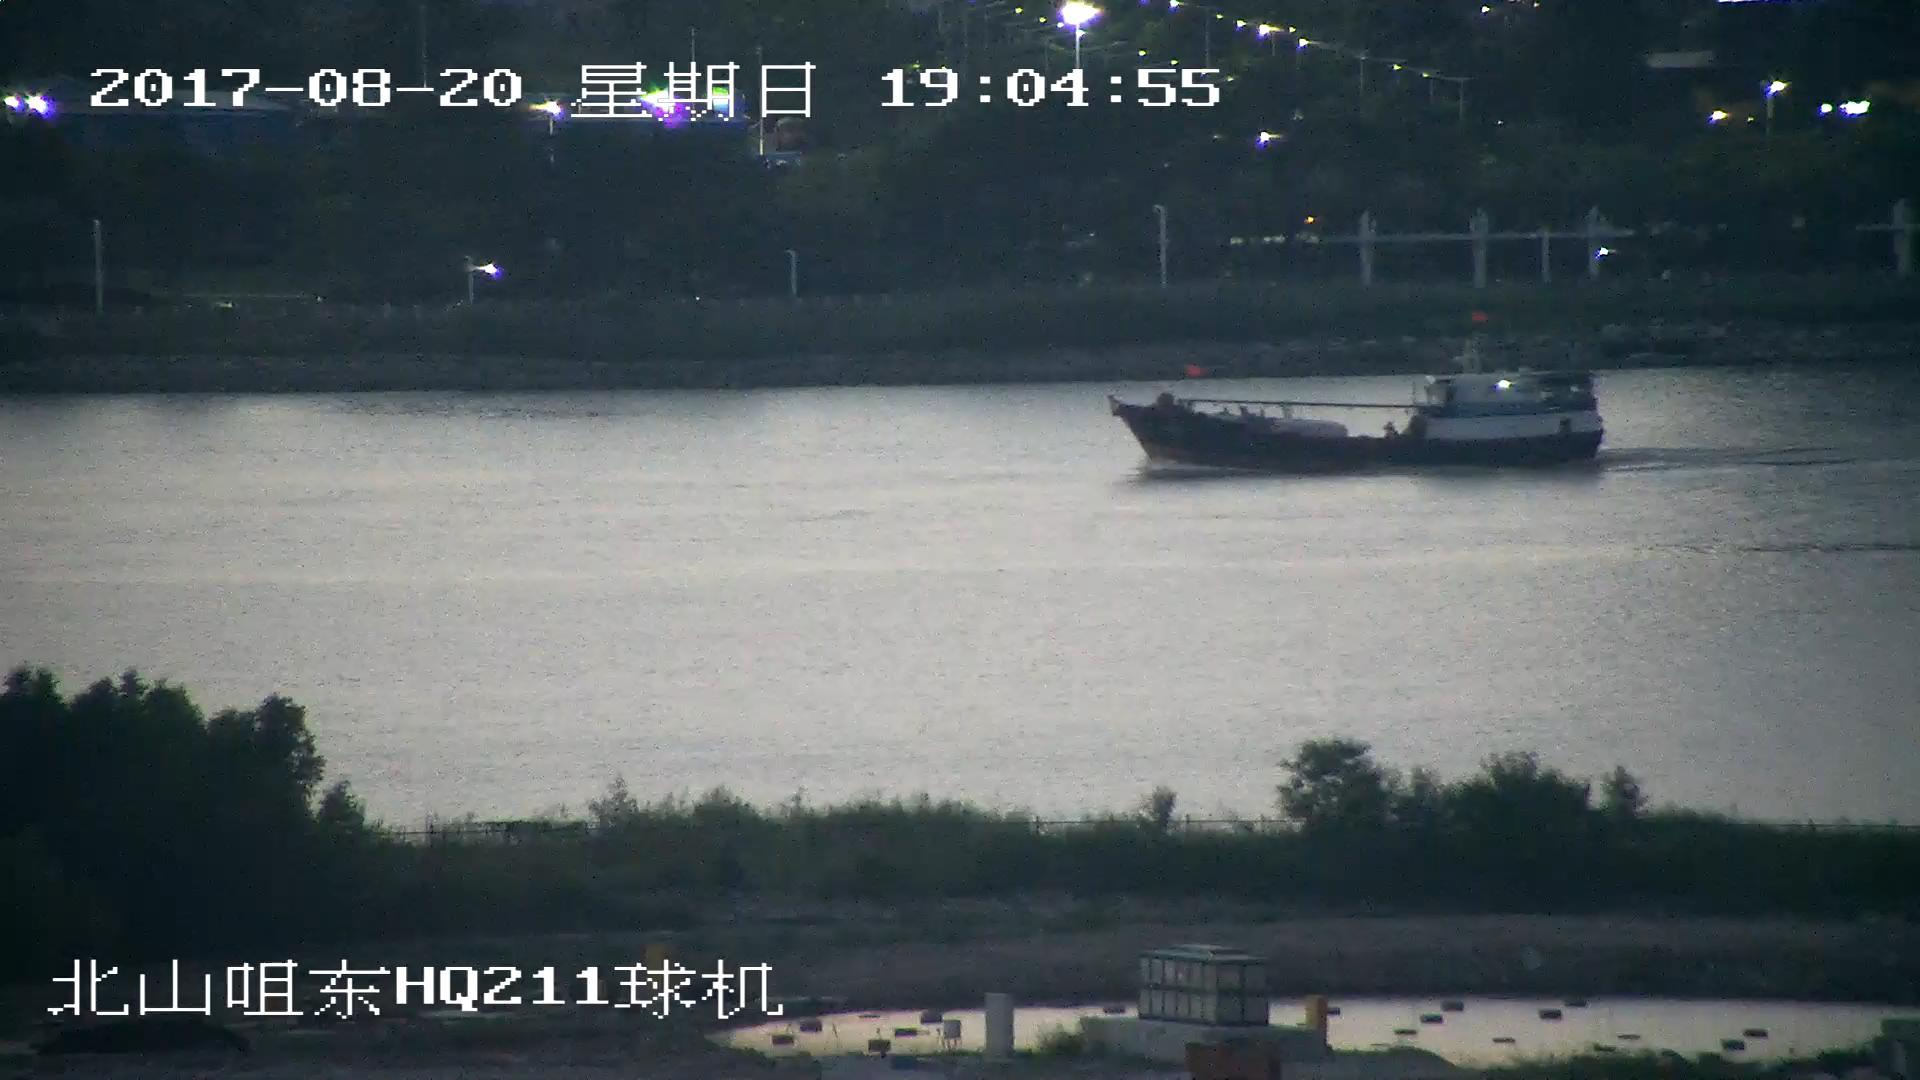fishing boat: (1110, 338, 1602, 467)
